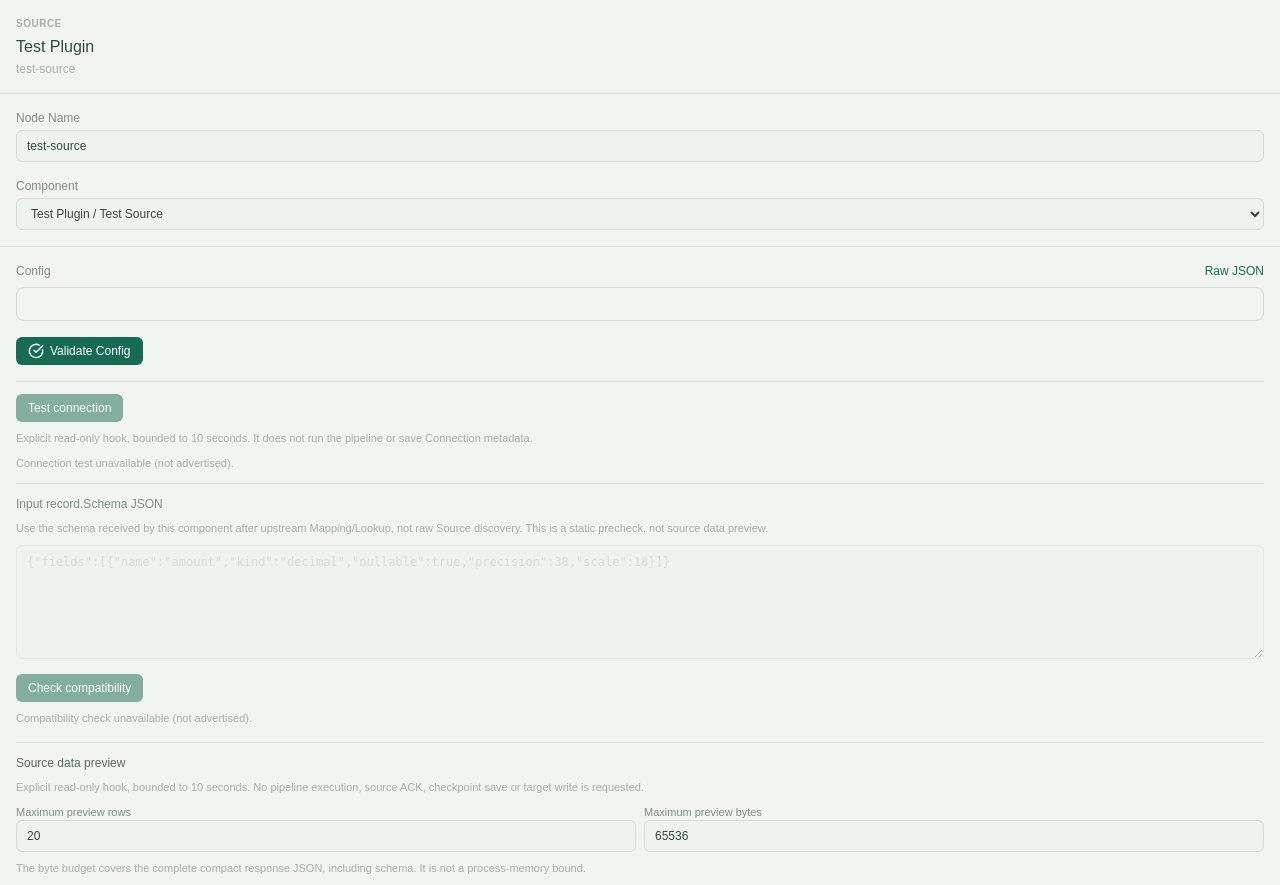
Test: ConfigPanel — ValidateConfig button › shows Validating... text while loading
The width and height of the screenshot is (1280, 885).
Click the button "Validate Config": (79, 351) [16,337,142,365]
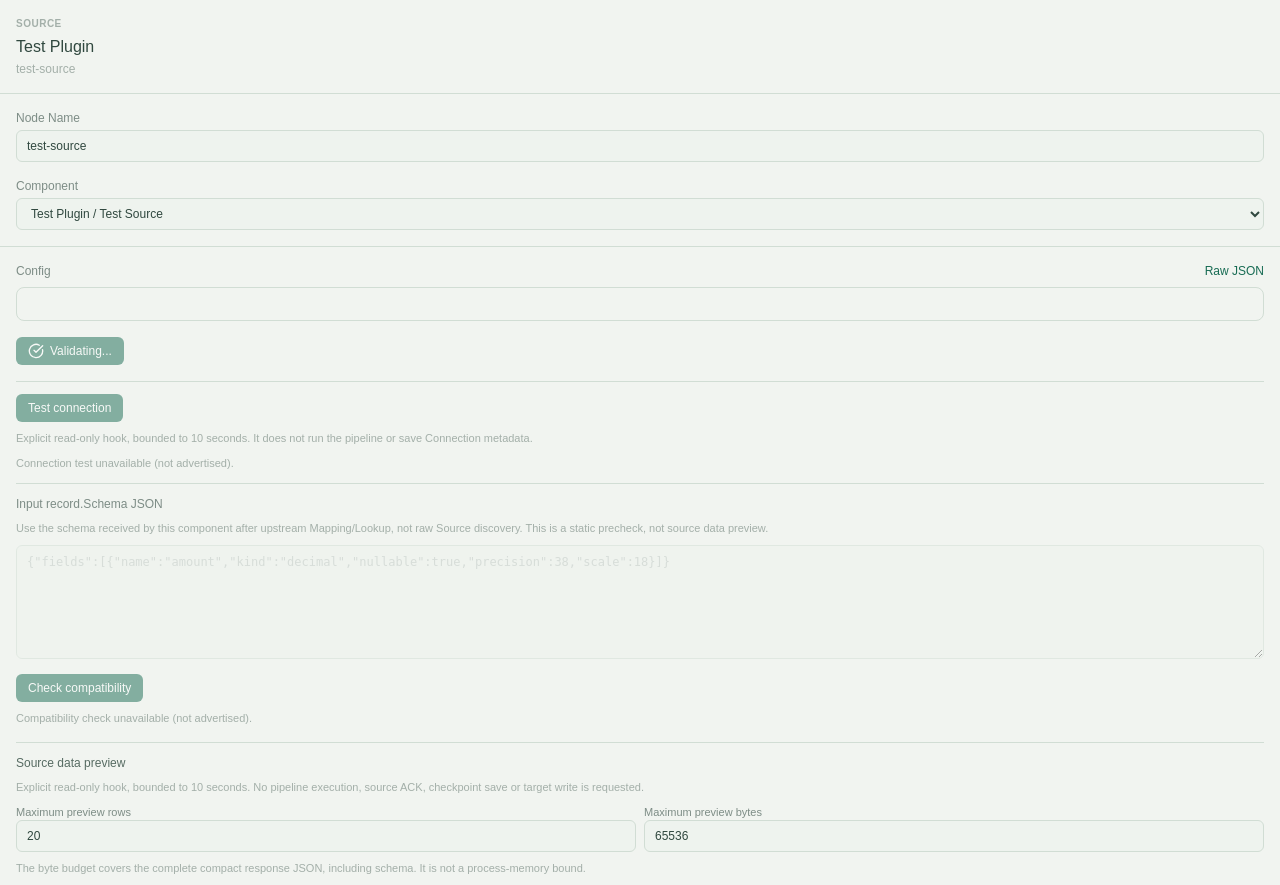
Expected: the button "Validating..." is shown, [16,337,124,365]
